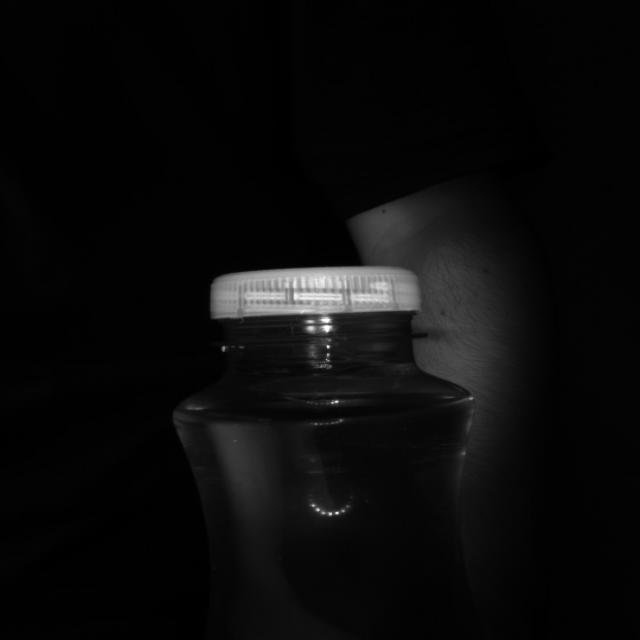Not Good: (210, 268, 426, 343)
